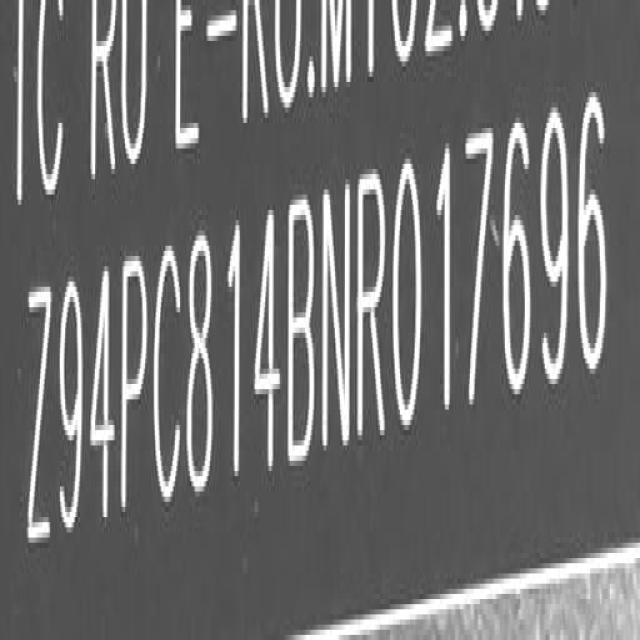0: (394, 163, 426, 438)
1: (433, 138, 453, 424), (228, 220, 246, 489)
4: (254, 212, 284, 478), (90, 262, 118, 528)
6: (579, 89, 612, 379), (502, 112, 534, 402)
7: (462, 121, 494, 416)
8: (187, 234, 218, 501)
9: (540, 107, 573, 394), (55, 274, 84, 540)
B: (289, 192, 319, 467)
C: (151, 243, 182, 509)
N: (321, 179, 353, 461)
P: (119, 262, 150, 522)
R: (356, 168, 389, 448)
Z: (25, 281, 54, 561)
